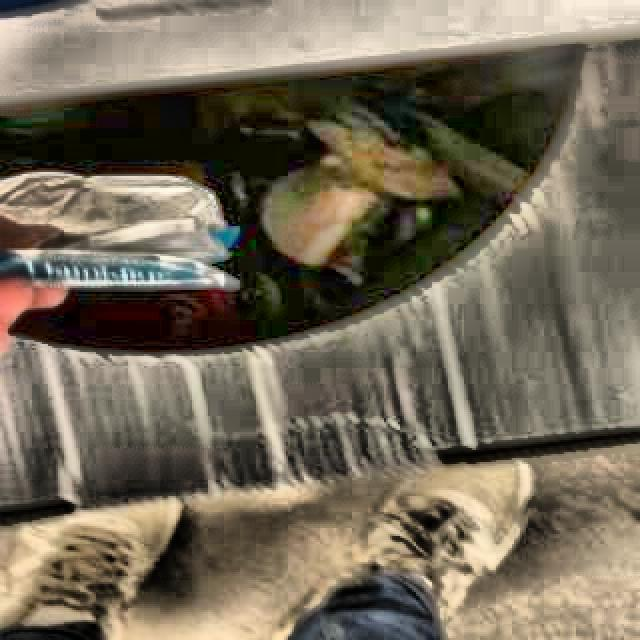metal: (0, 170, 237, 292)
